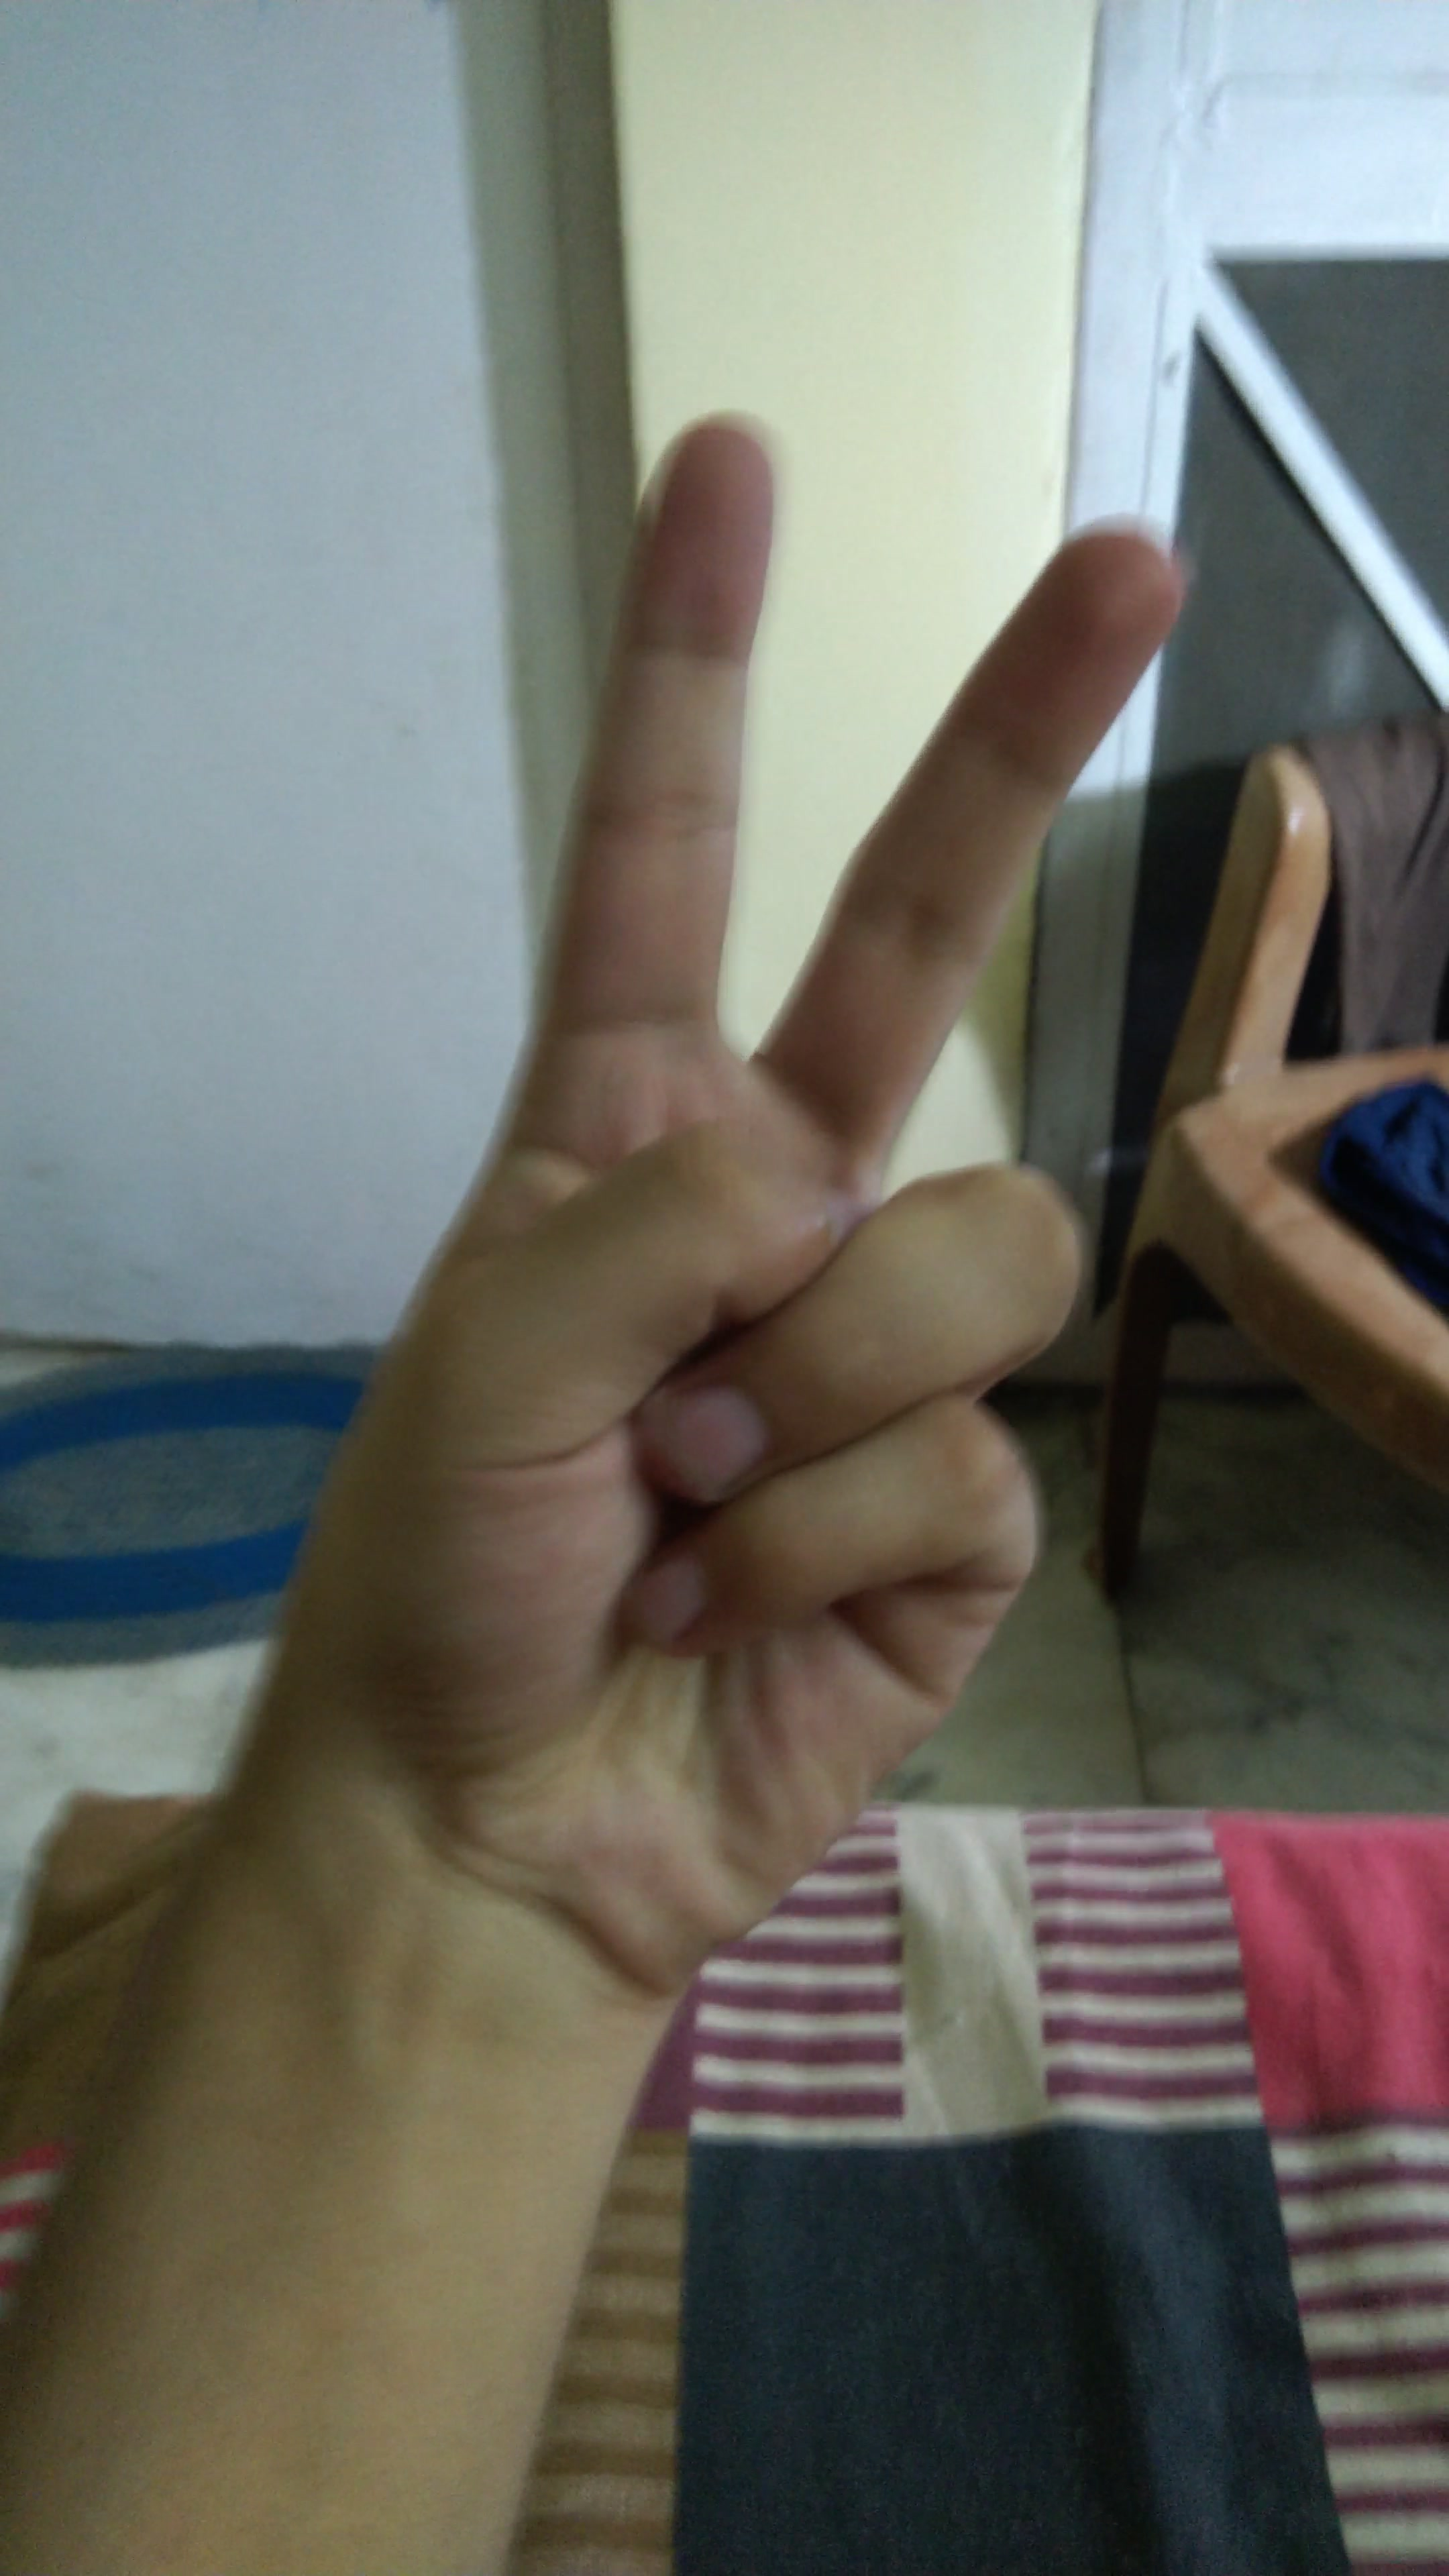hand: (189, 373, 1207, 2024)
